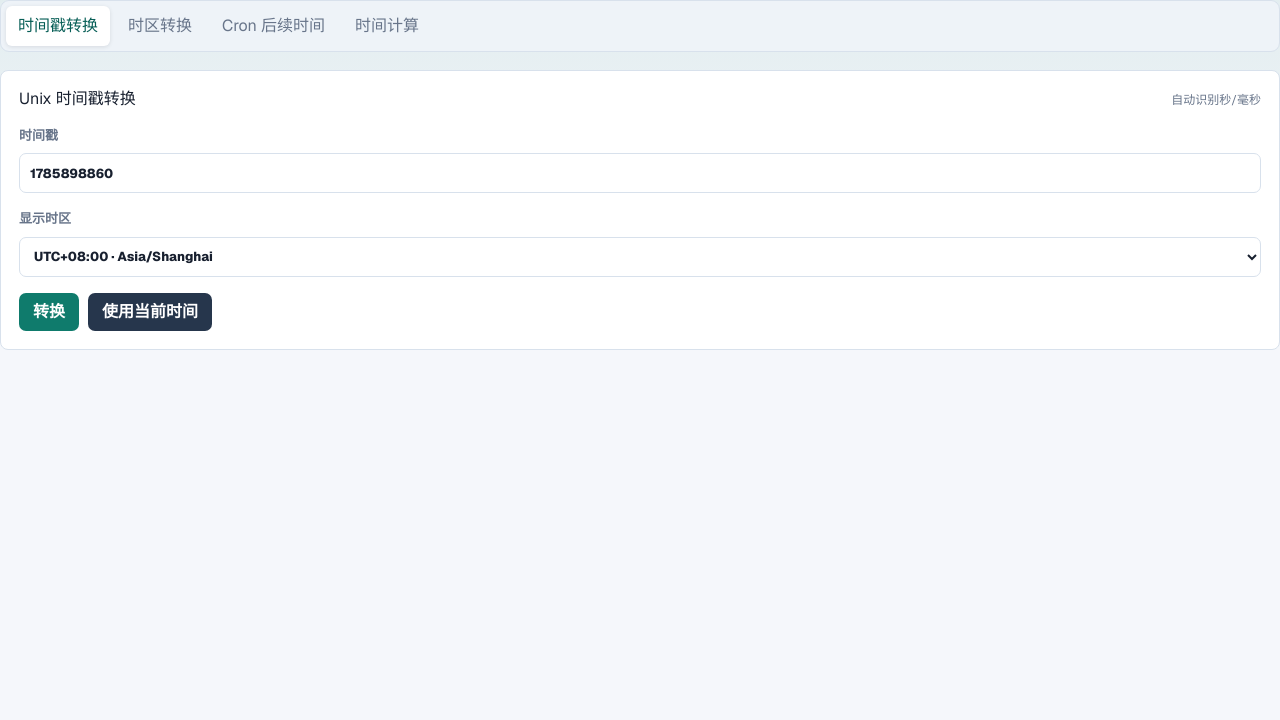
Scenario: workbench keyboard and theme interactions › switches cron field formats and explains each field
This screenshot has width=1280, height=720.
Click the tab "Cron 后续时间" at (273, 26), box [210,6,337,46]
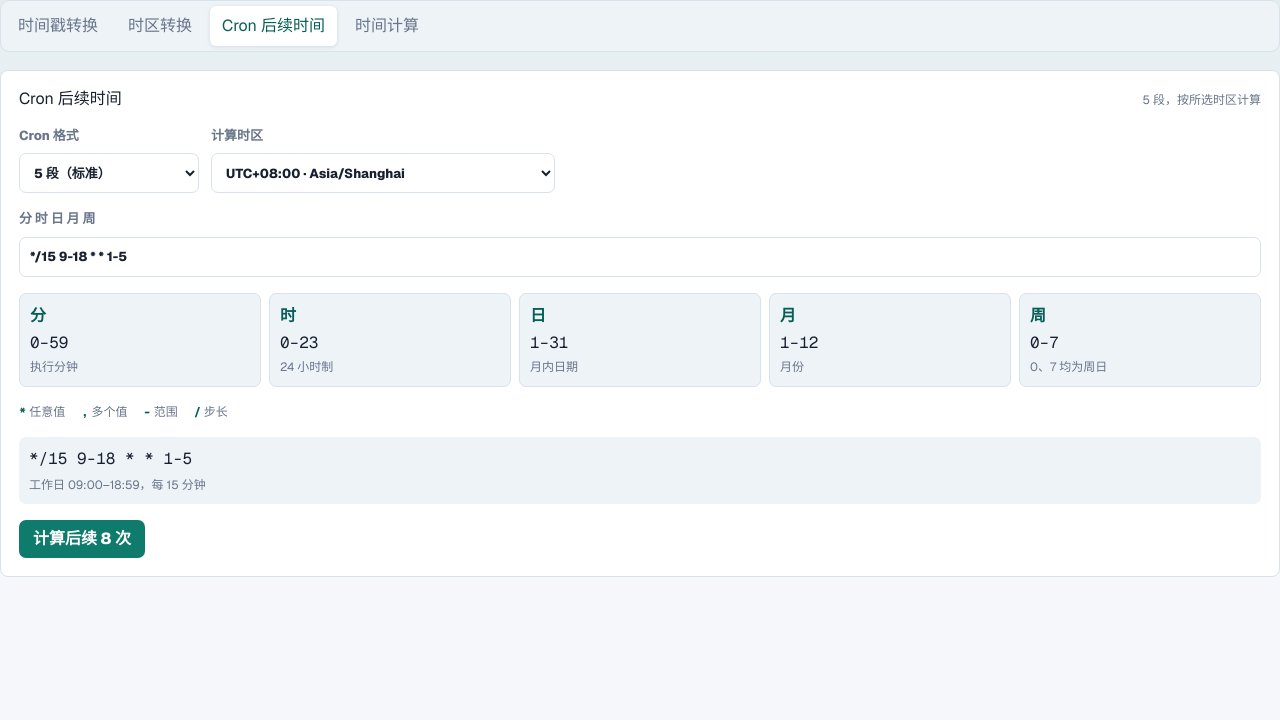
Expected: the field labelled "分 时 日 月 周" is shown, [19,237,1261,277]
Expected: the dropdown labelled "Cron 格式" shows "5 段（标准）"
Select "6 段（含秒）" in the dropdown labelled "Cron 格式" at (109, 173), box [19,153,199,193]
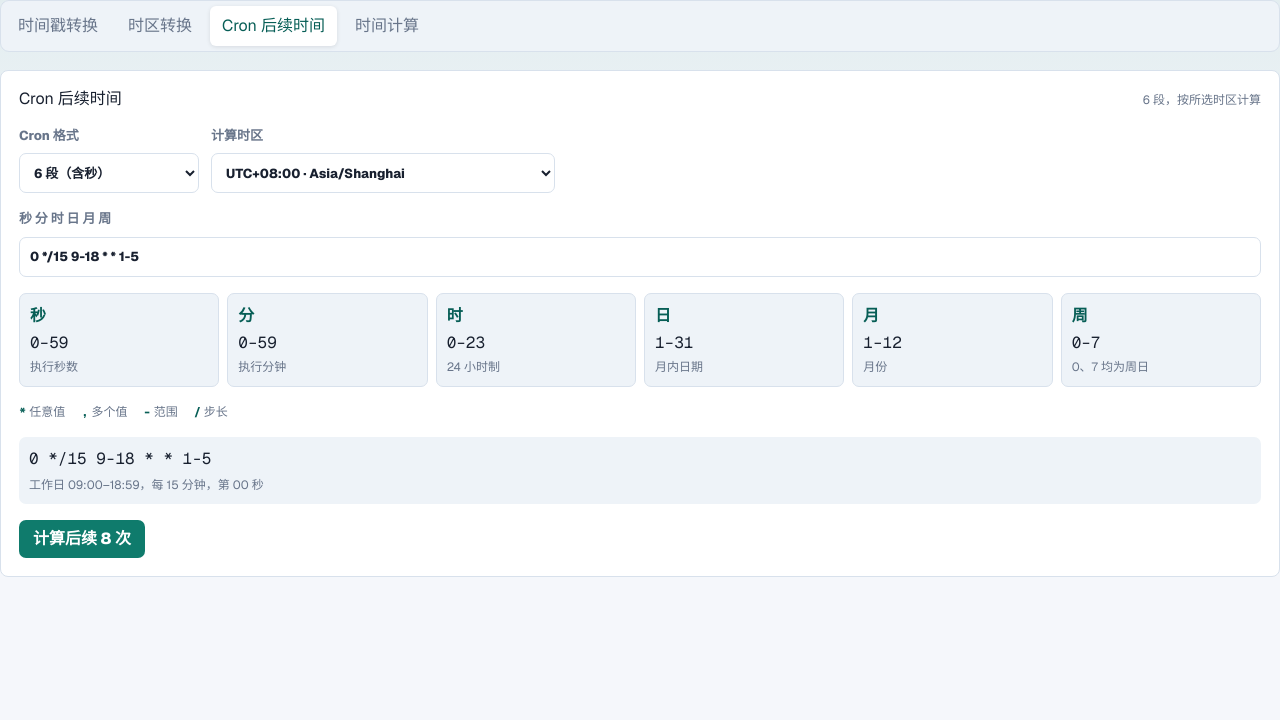
Expected: the field labelled "秒 分 时 日 月 周" holds "0 */15 9-18 * * 1-5", [19,237,1261,277]
Expected: the text "执行秒数" is shown, [30,359,78,375]
Select "7 段（含秒和年）" in the dropdown labelled "Cron 格式" at (109, 173), box [19,153,199,193]
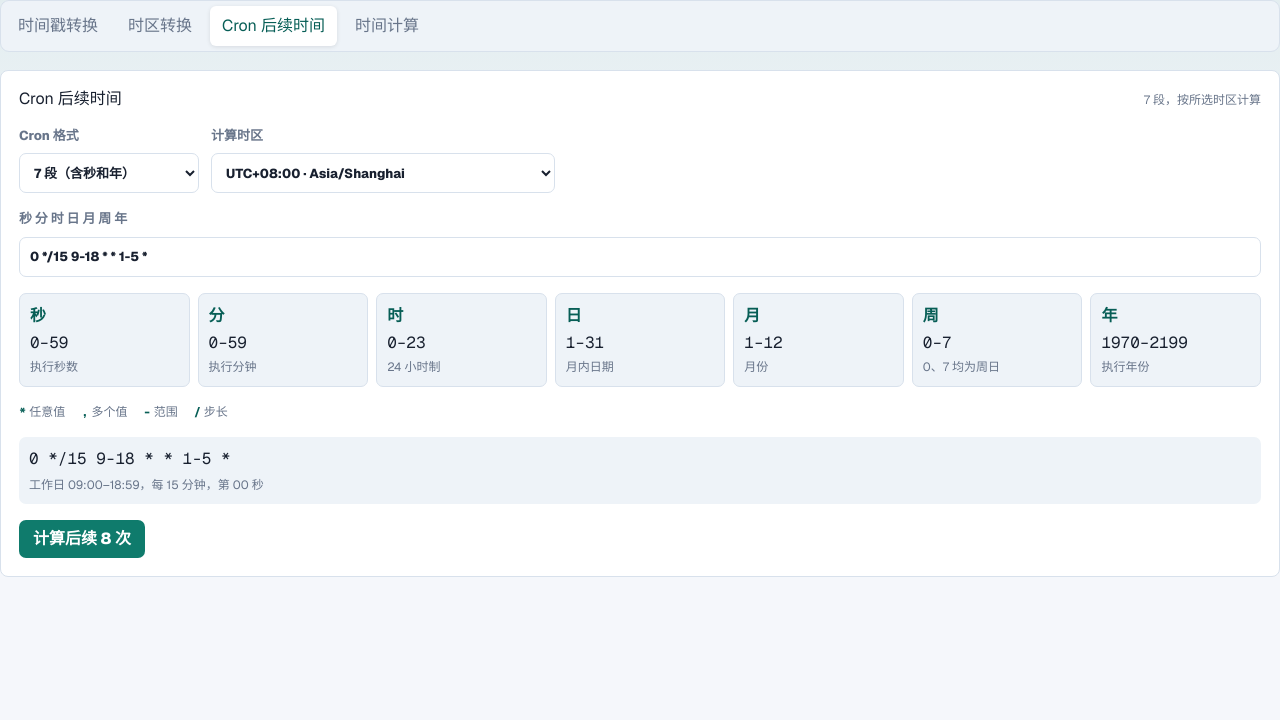
Expected: the field labelled "秒 分 时 日 月 周 年" holds "0 */15 9-18 * * 1-5 *", [19,237,1261,277]
Expected: the text "1970–2199" is shown, [1101,332,1188,353]
Expected: the text "执行年份" is shown, [1101,359,1149,375]
